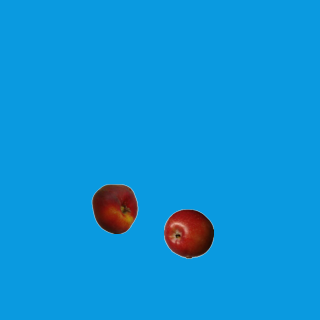Apple Braeburn: (163, 208, 213, 258)
Nectarine Flat: (89, 183, 139, 233)
